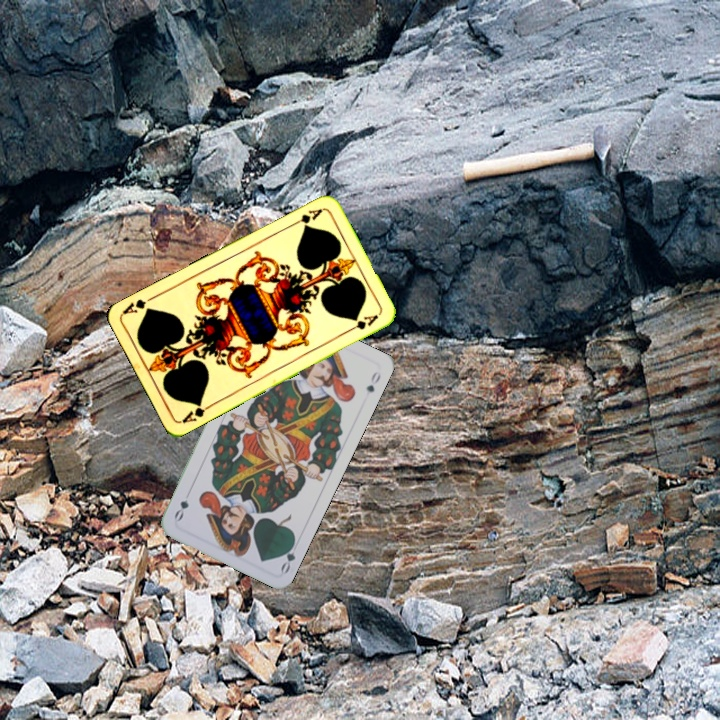GA: (178, 398, 215, 426), (287, 204, 325, 229)
GO: (277, 535, 298, 576)
